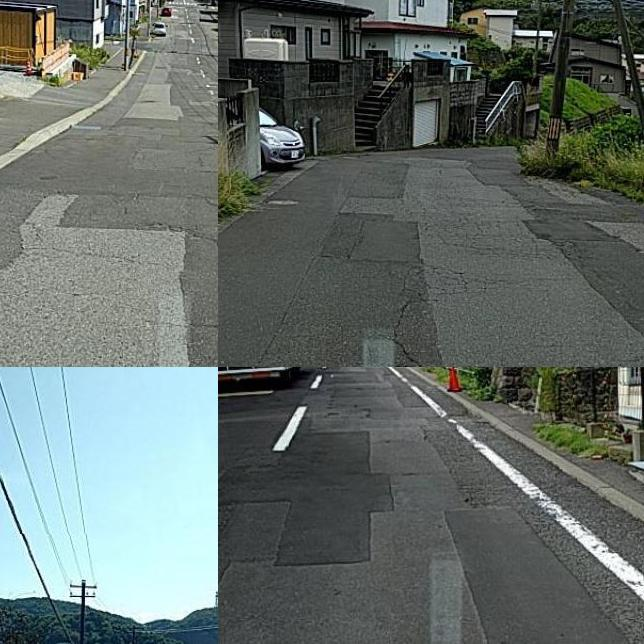Sambungan: (218, 202, 445, 367), (0, 195, 195, 367), (471, 170, 644, 340), (446, 508, 636, 644), (218, 432, 395, 561)
